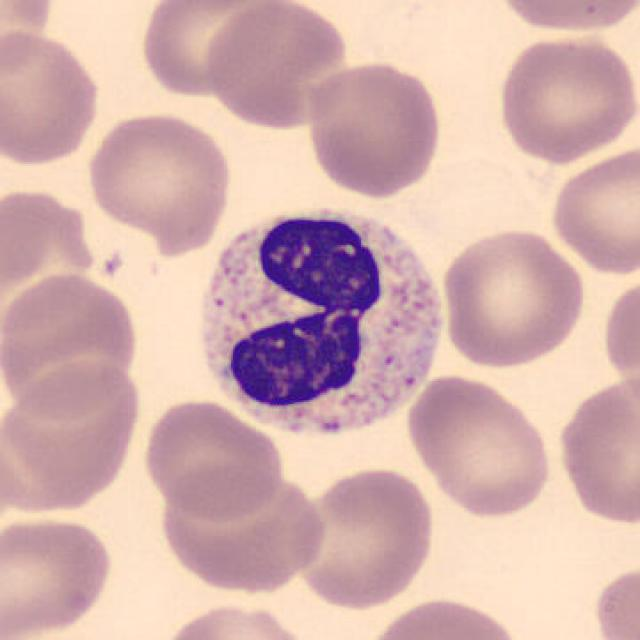Neutrophil: (185, 194, 457, 450)
RBC: (151, 464, 331, 596), (0, 356, 146, 518), (404, 370, 556, 520), (290, 464, 439, 612), (438, 224, 588, 370), (0, 268, 144, 420), (84, 108, 234, 252), (201, 0, 357, 132), (302, 58, 446, 199), (492, 28, 638, 166), (139, 397, 286, 520), (0, 511, 117, 638), (0, 27, 103, 170), (0, 179, 95, 332), (138, 2, 282, 100), (553, 368, 640, 529), (546, 142, 638, 278), (359, 592, 528, 640), (155, 599, 318, 640), (489, 0, 640, 37), (599, 271, 638, 402), (0, 2, 57, 76), (588, 559, 638, 640)
